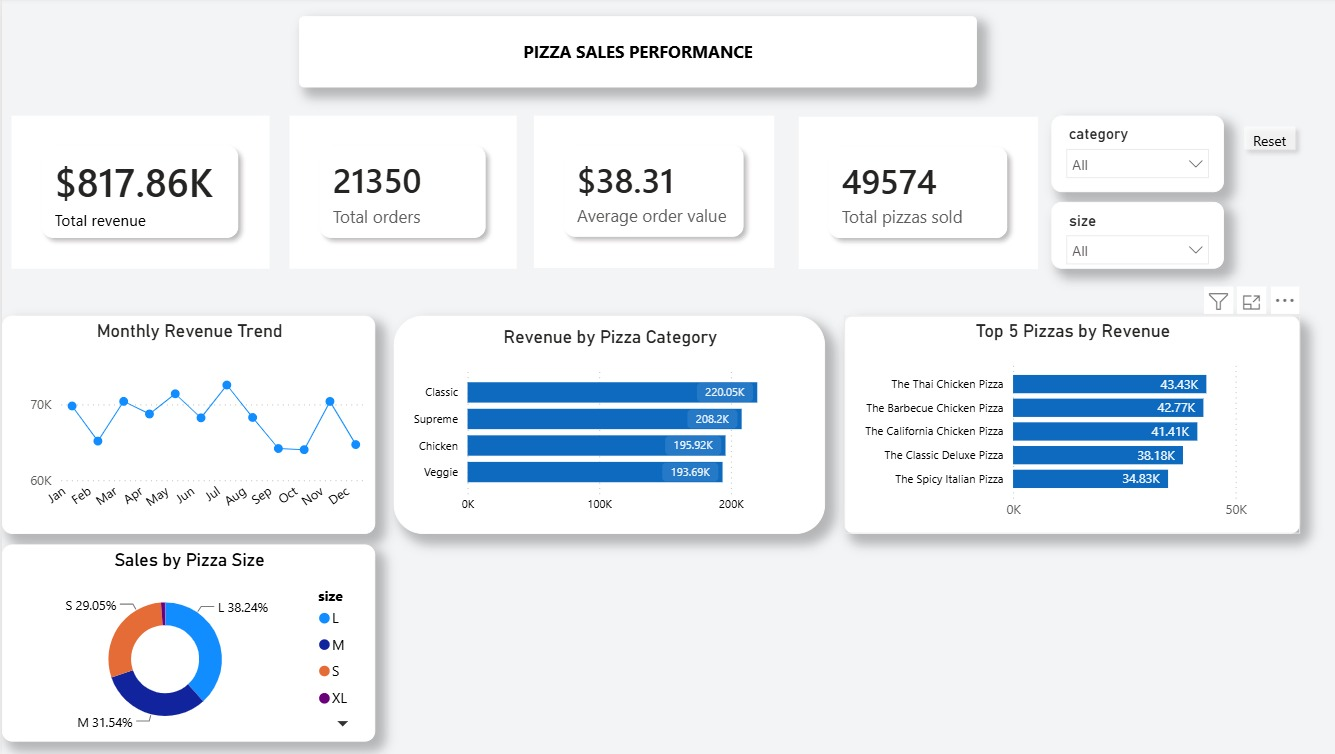

Layout of this report page (visuals, bound fields, positions):
{"tool":"powerbi","page":{"name":"Page 1","canvas":[1280,720],"ordinal":0},"visuals":[{"type":"cardVisual","fields":{"Data":["pizza_sales_db order_details.Total_revenue"]},"box":[8.9,112.1,244.9,145.1],"z":0},{"type":"cardVisual","fields":{"Data":["pizza_sales_db orders.total orders"]},"box":[272.4,112.6,215.4,145.1],"z":1000},{"type":"cardVisual","fields":{"Data":["pizza_sales_db orders.Average order value"]},"box":[504,112.1,228.2,144.6],"z":2000},{"type":"cardVisual","fields":{"Data":["pizza_sales_db order_details.Total pizzas sold"]},"box":[755.8,113.6,227.2,144.1],"z":3000},{"type":"lineChart","title":"Monthly Revenue Trend","fields":{"Y":["pizza_sales_db order_details.Total_revenue"],"Category":["pizza_sales_db orders.short month"]},"box":[0,301.9,354,207],"z":4000},{"type":"barChart","title":"Revenue by Pizza Category","fields":{"Category":["pizza_sales_db pizza_types.category"],"Y":["pizza_sales_db order_details.Total revenue"]},"box":[371.7,301.9,409.1,207],"z":5000},{"type":"barChart","title":"Top 5 Pizzas by Revenue","fields":{"Category":["pizza_sales_db pizza_types.name"],"Y":["pizza_sales_db order_details.Total revenue"]},"box":[799.1,301.9,432.2,207],"z":6000},{"type":"donutChart","title":"Sales by Pizza Size","fields":{"Category":["pizza_sales_db pizzas.size"],"Y":["pizza_sales_db order_details.Total pizzas sold"]},"box":[0,518.8,354,187.3],"z":7000},{"type":"slicer","fields":{"Values":["pizza_sales_db pizza_types.category"]},"box":[995.3,112.1,163.3,72.3],"z":7001},{"type":"slicer","fields":{"Values":["pizza_sales_db pizzas.size"]},"box":[995.3,194.2,163.3,63.4],"z":7002},{"type":"actionButton","box":[1168.8,113.6,66.4,39.8],"z":7003},{"type":"shape","box":[282.3,18.2,643.2,67.4],"z":7004}]}

Visuals, with their boxes in screenshot pixels (x1, y1, x2, y2), scaled from the page's 1280x720 canvas onto the 1335x754 screenshot:
cardVisual - pizza_sales_db order_details.Total_revenue: [9, 117, 265, 269]
cardVisual - pizza_sales_db orders.total orders: [284, 118, 509, 270]
cardVisual - pizza_sales_db orders.Average order value: [526, 117, 764, 269]
cardVisual - pizza_sales_db order_details.Total pizzas sold: [788, 119, 1025, 270]
"Monthly Revenue Trend" lineChart: [0, 316, 369, 533]
"Revenue by Pizza Category" barChart: [388, 316, 814, 533]
"Top 5 Pizzas by Revenue" barChart: [833, 316, 1284, 533]
"Sales by Pizza Size" donutChart: [0, 543, 369, 739]
slicer - pizza_sales_db pizza_types.category: [1038, 117, 1208, 193]
slicer - pizza_sales_db pizzas.size: [1038, 203, 1208, 270]
actionButton: [1219, 119, 1288, 161]
shape: [294, 19, 965, 90]
